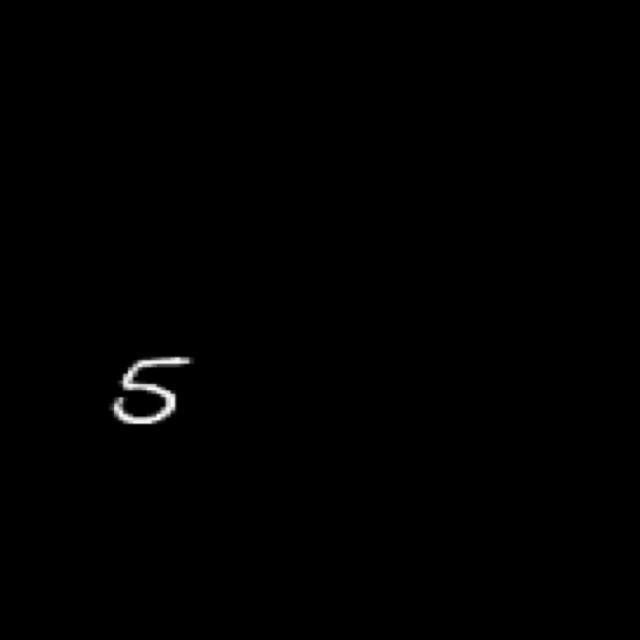five -5-: (105, 350, 198, 427)
